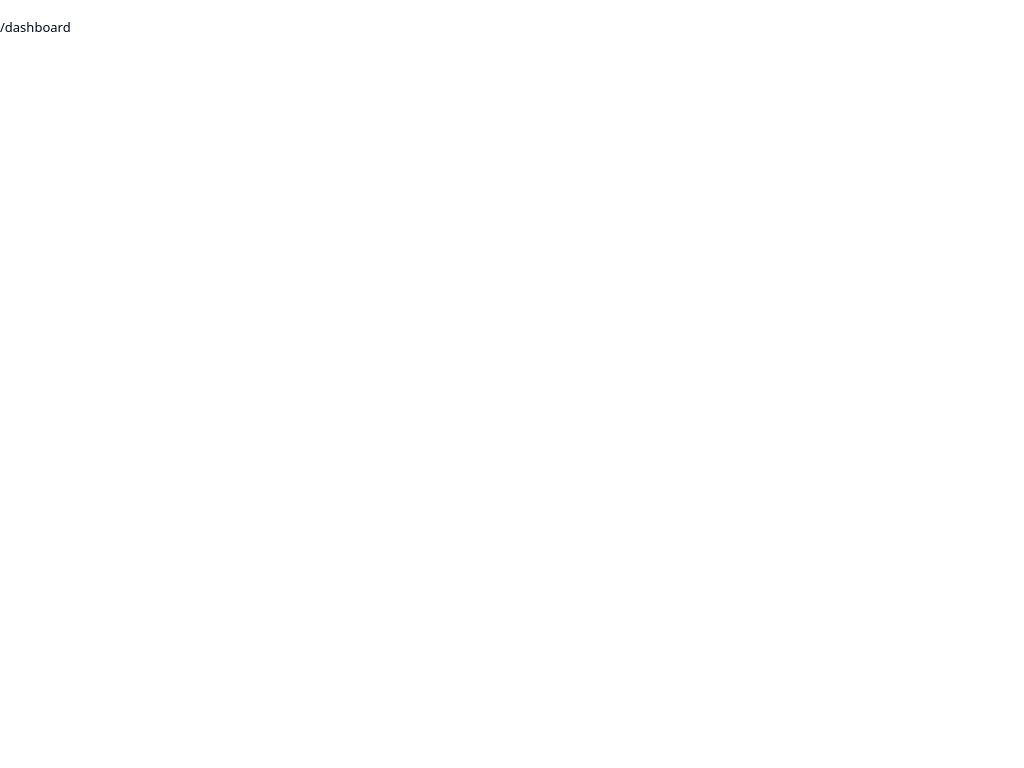
Test case: CommandBar — Ctrl/⌘+K (#347 D10) › pay <invoice> opens the #508 register-payment dialog prefilled for a payable invoice
The image size is (1024, 768).
Press k
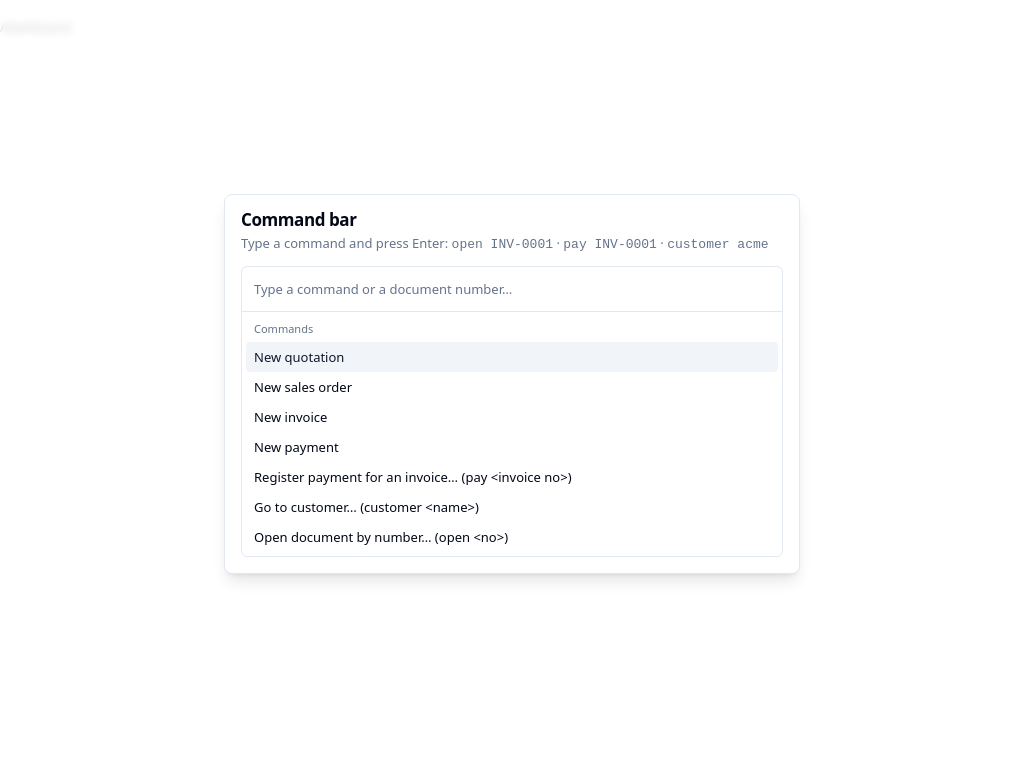
Type "pay INV-2026-00" into the dropdown with placeholder "Type a command or a document number…" at {"x": 512, "y": 289}, box [254,267,770,311]
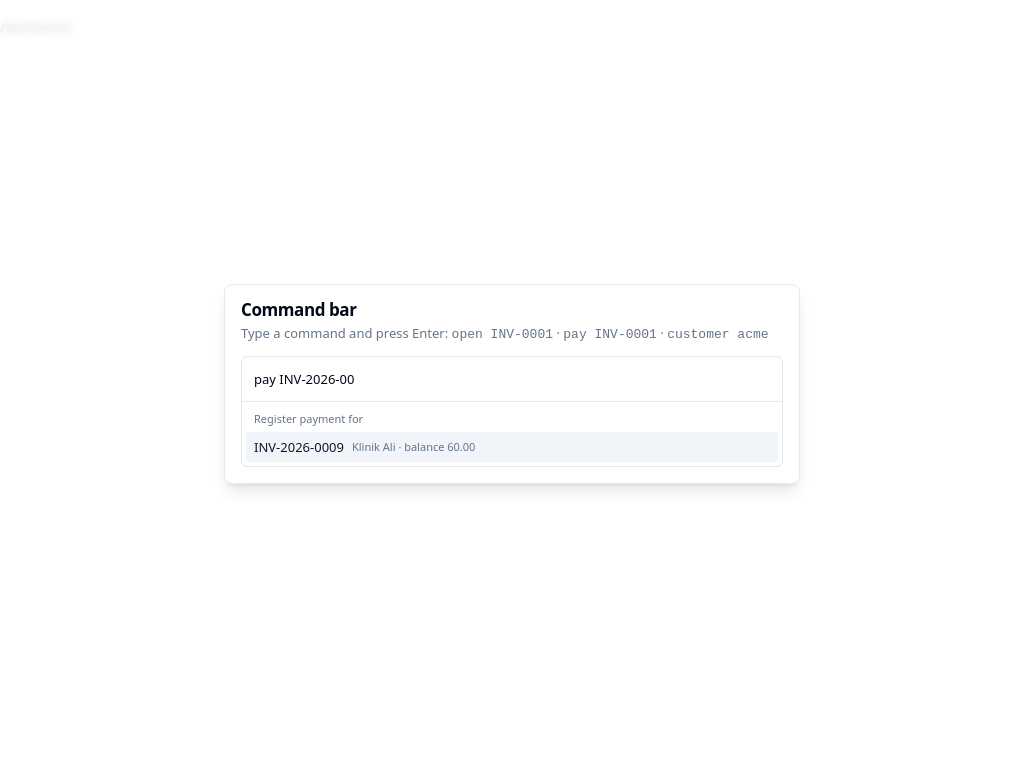
Click the text "INV-2026-0009" at {"x": 299, "y": 447}, box [254,438,344,456]
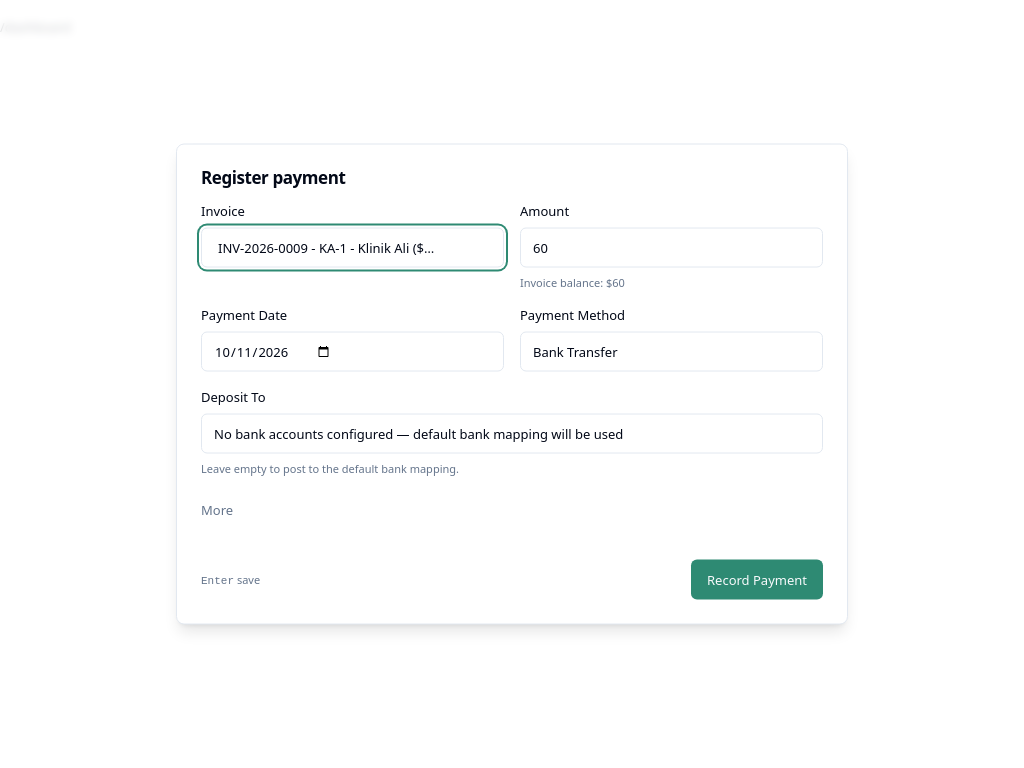
Result: the number field labelled "Amount" holds "60" at [520,228,823,268]
